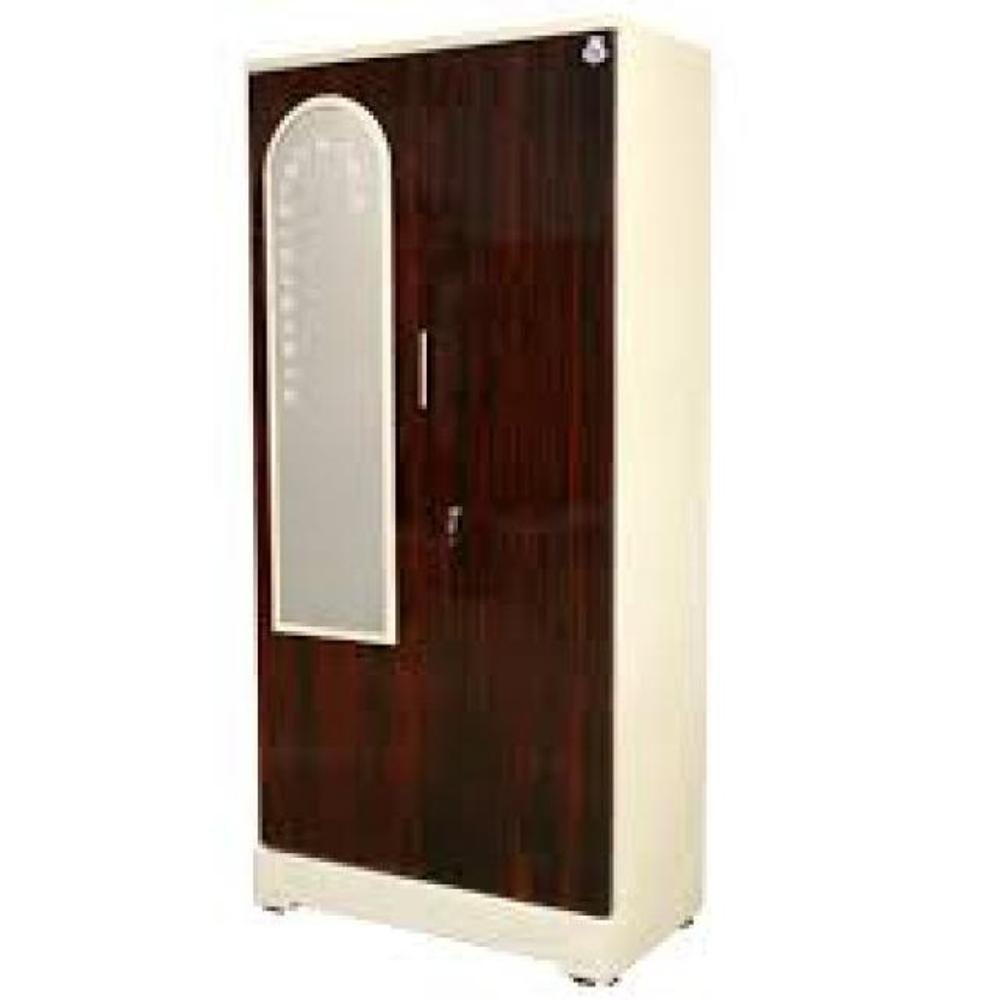cabinet: (189, 6, 770, 991)
